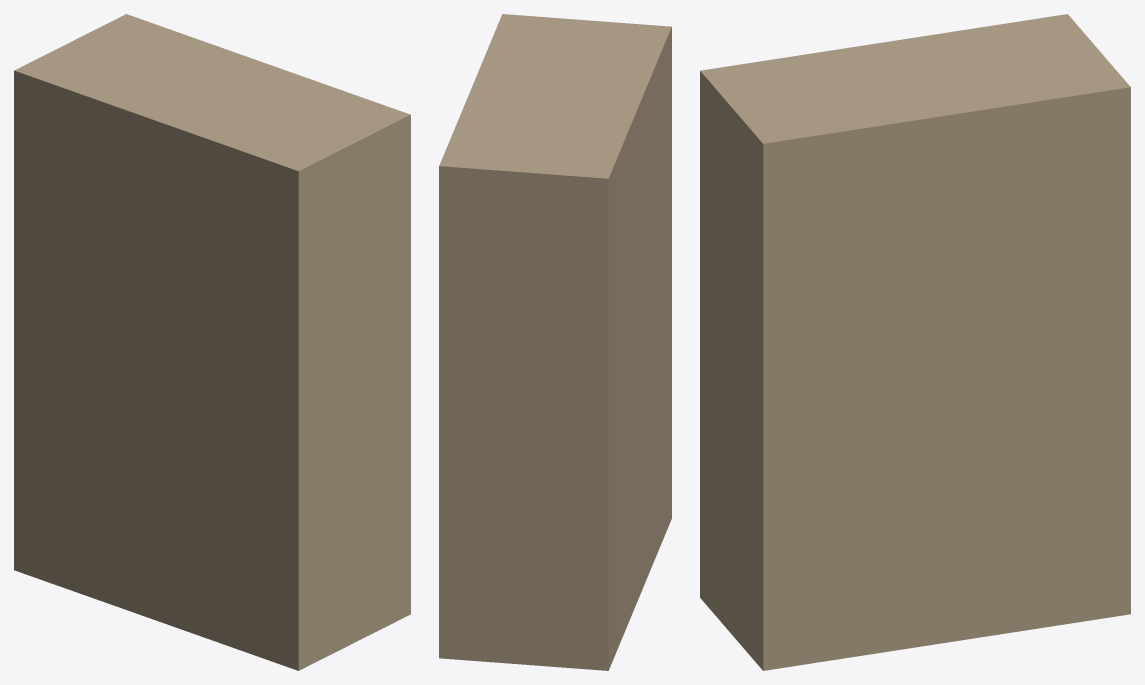
Rendered from bld_107610439.dae.
3 views of the same model, side by side, from view 1: azimuth 30°, elevation 25°; view 2: azimuth 150°, elevation 25°; view 3: azimuth 270°, elevation 25° (orthographic). The views are drawn at different scales.
Visible parts, largest first — view 1: bld_107610439; view 2: bld_107610439; view 3: bld_107610439.
Boxes of the visible parts, box(x1,y1,x2,y2) form: bld_107610439: box(14, 14, 410, 670); bld_107610439: box(439, 14, 671, 670); bld_107610439: box(700, 14, 1130, 670).
Size of the model in its own units: 4.23 by 5.92 by 8.
